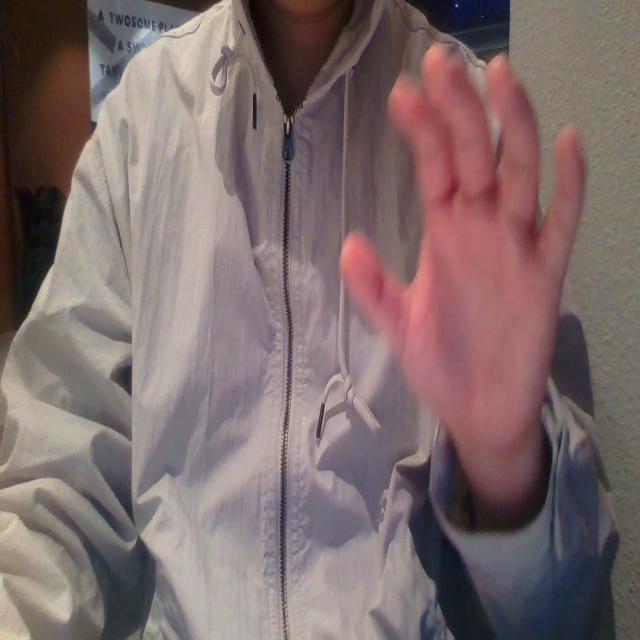hand: (333, 36, 595, 501)
